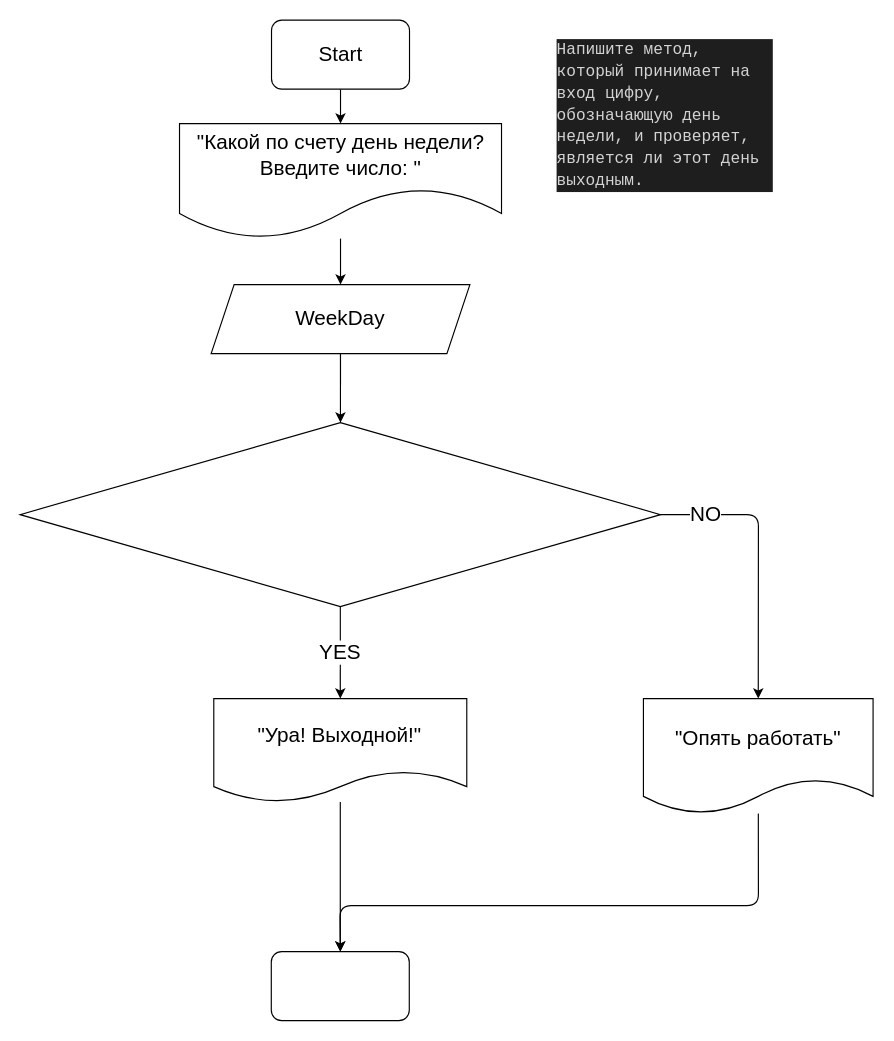
Image size: 894x1041. Some labels were removed from this diagram. Each missing label, with the centre of its shape:
"(WeekDay mod 6 == 0) or (WeekDay mod 7 == 0)" goes at point 340,514.
"End" goes at point 339,985.
